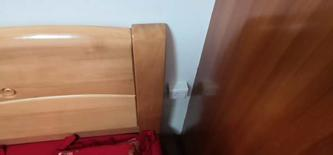switch: (172, 90, 189, 99)
